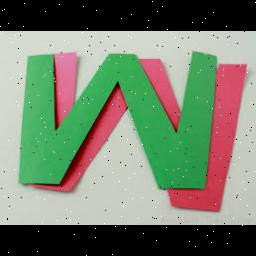w: (10, 48, 224, 194)
